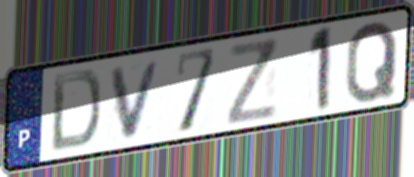1: (306, 23, 335, 116)
7: (175, 45, 217, 135)
D: (48, 68, 103, 155)
Q: (343, 18, 400, 106)
V: (108, 56, 166, 142)
Z: (226, 35, 279, 128)
